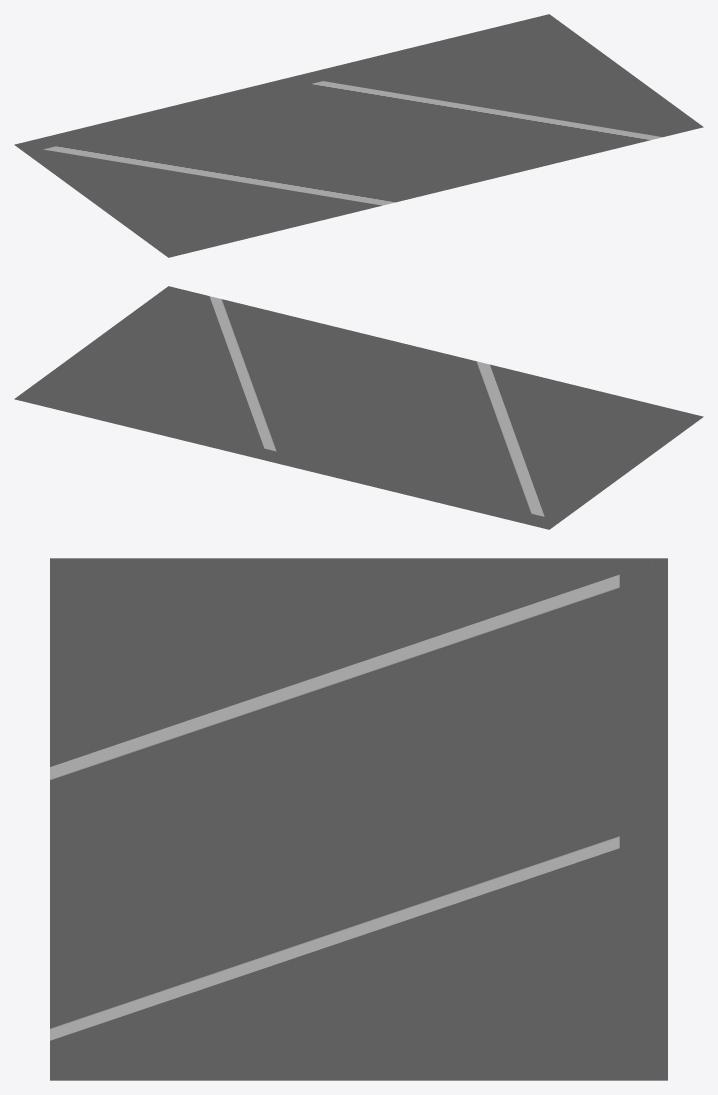
Rendered from SM_parkingSpot_02.glb.
The picture shows the model from 3 angles, top to bottom: view 1: azimuth 30°, elevation 25°; view 2: azimuth 150°, elevation 25°; view 3: azimuth 270°, elevation 25°; orthographic projection. The views are drawn at different scales.
Parts seen in each view (by area): view 1: SM_parkingSpot_02; view 2: SM_parkingSpot_02; view 3: SM_parkingSpot_02.
Boxes of the visible parts, x1,y1,x2,y2 form: SM_parkingSpot_02: (14,14,703,257); SM_parkingSpot_02: (14,286,703,529); SM_parkingSpot_02: (50,558,667,1080).
Bounding box in the file's own units: 8 × 2.45e-16 × 4.
Materials: 1 (1 with a texture image).
